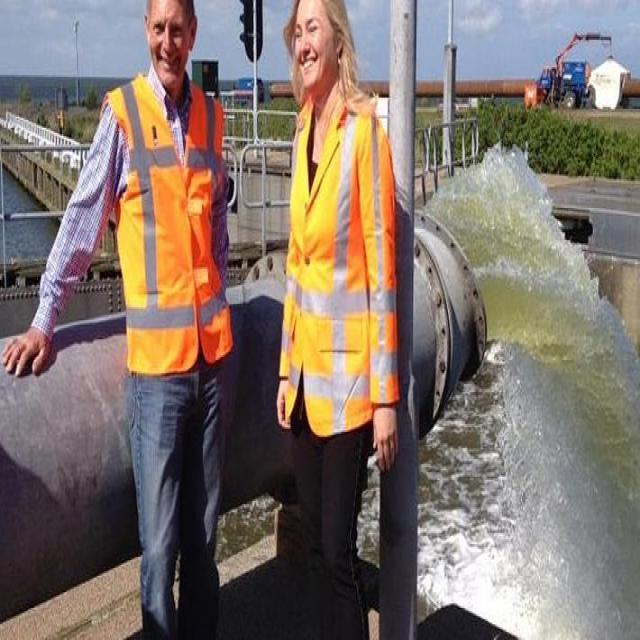reflective_jacket: (275, 85, 400, 440), (105, 78, 235, 375)
